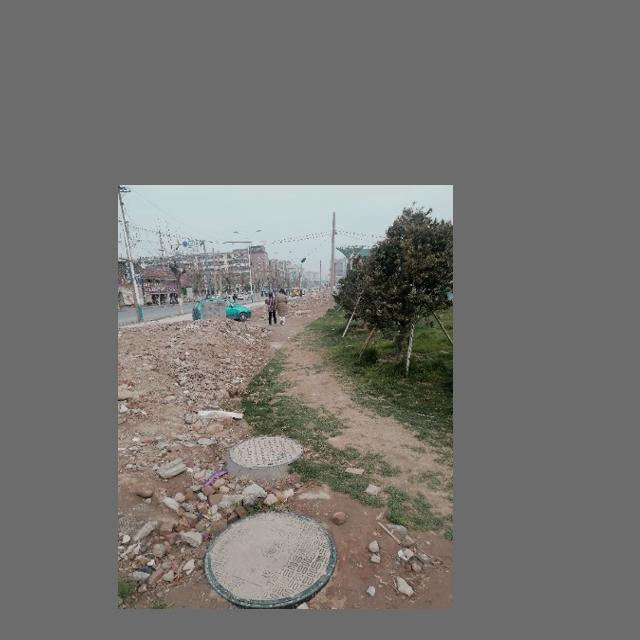good: (204, 510, 336, 609), (229, 434, 305, 468)
